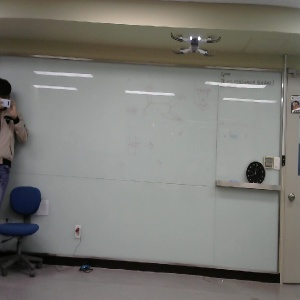Drone: (170, 28, 221, 54)
